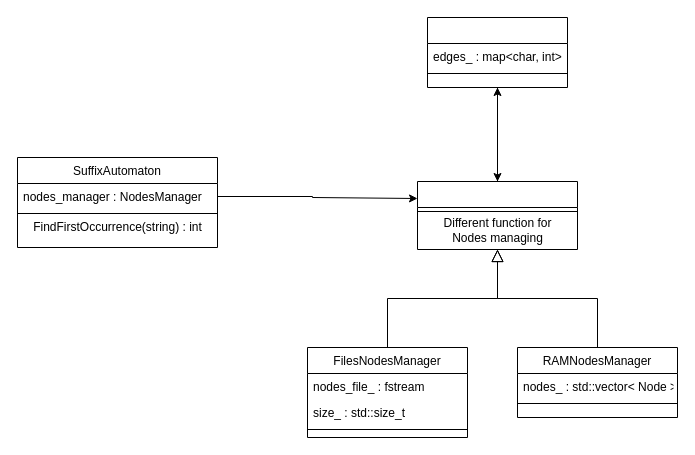
Image size: 695x455. Some labels were removed from this diagram. Each missing label, with the box of its shape:
Node: (426, 16, 568, 88)
NodesManager: (416, 180, 578, 250)
